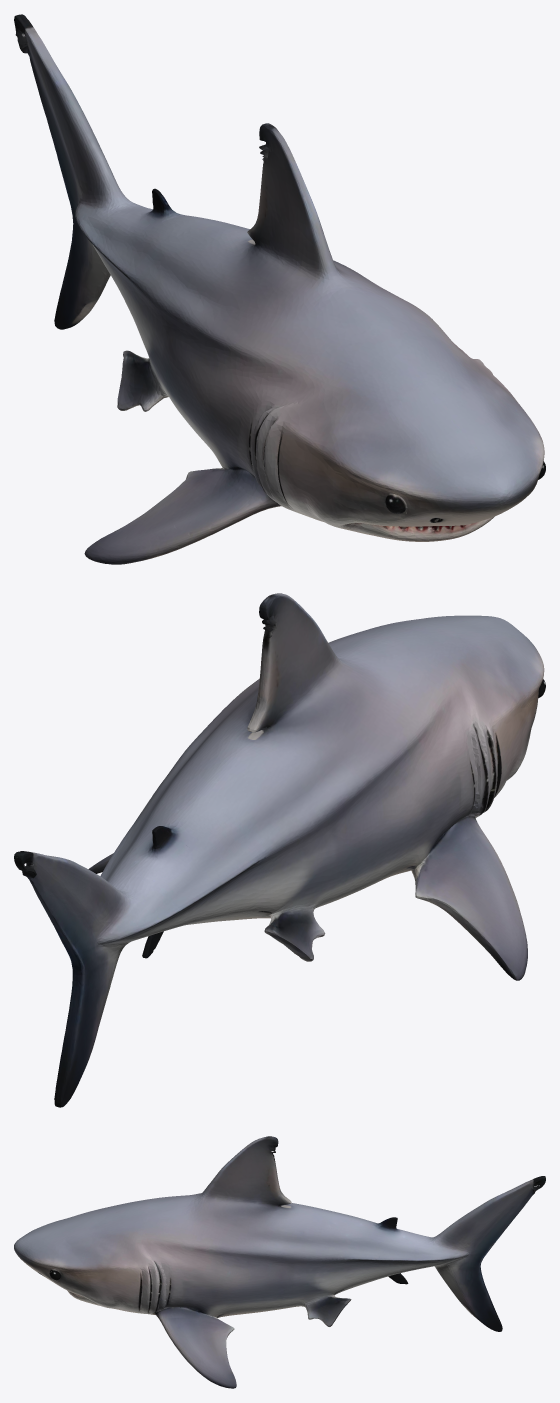
File: shark+3d+model.fbx
3 views of the same model, one above another, from view 1: azimuth 30°, elevation 25°; view 2: azimuth 150°, elevation 25°; view 3: azimuth 270°, elevation 25° (orthographic). The views are drawn at different scales.
Visible parts, largest first — view 1: tripo_node_9a9f0203; view 2: tripo_node_9a9f0203; view 3: tripo_node_9a9f0203.
Boxes of the visible parts, left/top/right/bottom form: tripo_node_9a9f0203: left=14, top=14, right=545, bottom=564; tripo_node_9a9f0203: left=14, top=593, right=545, bottom=1107; tripo_node_9a9f0203: left=14, top=1136, right=545, bottom=1388.
Size of the model in its own units: 0.5144 by 0.4034 by 0.9994.
Materials: 1 (1 with a texture image).
